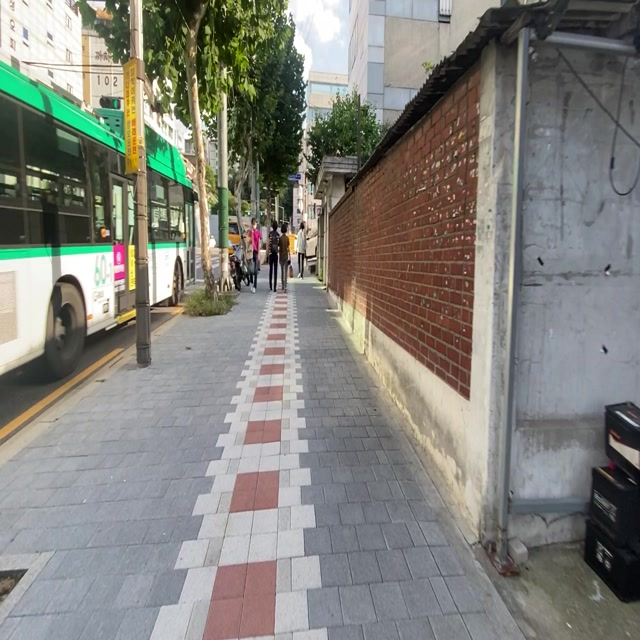Vehicle: (0, 61, 137, 376), (582, 401, 639, 599), (230, 256, 256, 290)
